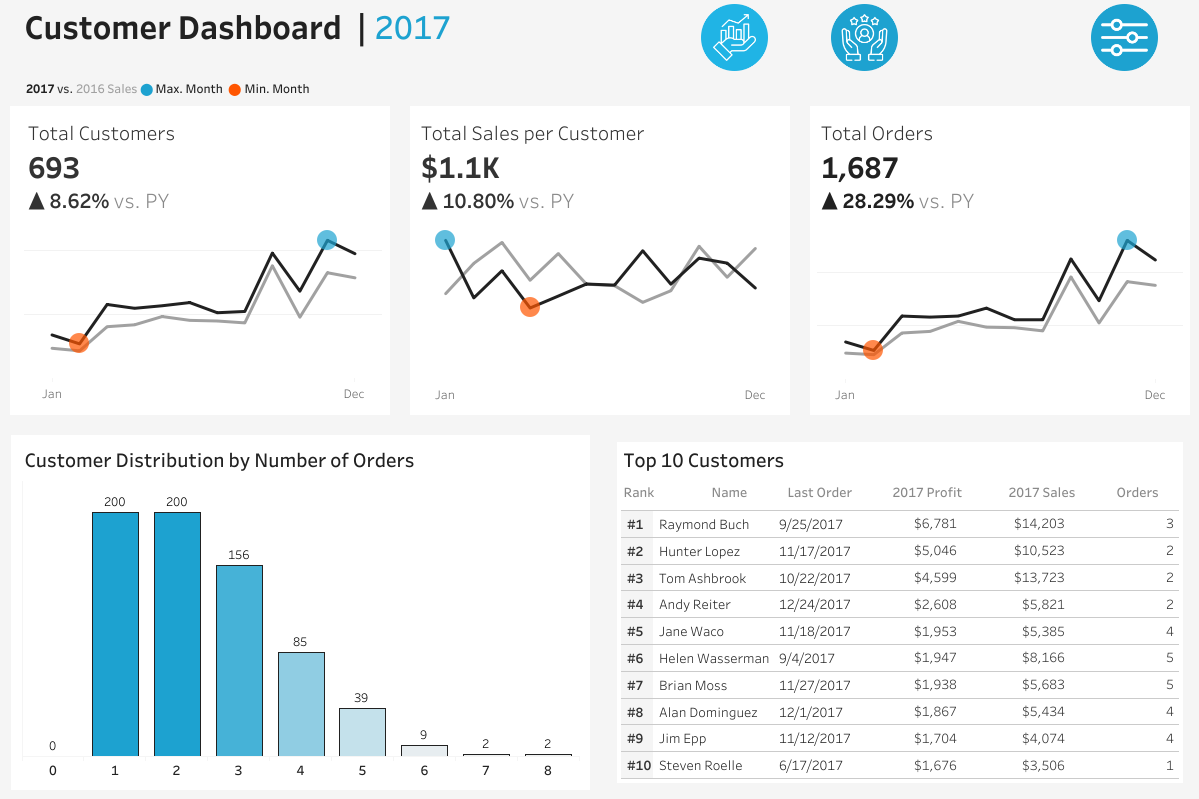

What the dashboard file says about the page in this screenshot:
{"tool":"tableau","page":{"name":"Customer Dashboard","canvas":[1200,800],"ordinal":0},"visuals":[{"type":"text","box":[0,0,1200,52]},{"type":"dashboard-object","box":[670,0,130,75]},{"type":"dashboard-object","box":[800,0,130,75]},{"type":"blank","box":[930,0,130,75]},{"type":"dashboard-object","box":[1060,0,130,75]},{"type":"blank","box":[941,10,240,66]},{"type":"worksheet","title":"Legend of KPI","mark":"Automatic","box":[0,70,1200,36]},{"type":"text","box":[941,76,240,34]},{"type":"worksheet","title":"KPI Customers","mark":"Automatic","rows":["Calculation_667377237292982288"],"cols":["Order Date"],"box":[0,106,400,319]},{"type":"worksheet","title":"KPI Sales per Customer","mark":"Automatic","rows":["Calculation_667377237299130390"],"cols":["Order Date"],"box":[400,106,400,319]},{"type":"worksheet","title":"KPI Orders","mark":"Automatic","rows":["Calculation_667377237303722012"],"cols":["Order Date"],"box":[800,106,400,319]},{"type":"parameter","param":"[Parameters].[Parameter 1]","box":[941,110,240,61]},{"type":"blank","box":[941,171,240,75]},{"type":"text","box":[941,246,240,29]},{"type":"filter","title":"KPI Customers","param":"[federated.08uz19t08srfrs111xc0d11h2edg].[none:Category:nk]","box":[941,275,240,52]},{"type":"filter","title":"KPI Customers","param":"[federated.08uz19t08srfrs111xc0d11h2edg].[none:Sub-Category:nk]","box":[941,327,240,52]},{"type":"blank","box":[941,379,240,78]},{"type":"text","box":[18,442,565,34]},{"type":"text","box":[617,442,566,34]},{"type":"text","box":[941,457,240,29]},{"type":"worksheet","title":"Customer Distribution","mark":"Automatic","rows":["Calculation_667377237286678539"],"cols":["Calculation_667377237305925665"],"box":[18,476,565,307]},{"type":"text","box":[617,476,88,30]},{"type":"text","box":[705,476,76,30]},{"type":"text","box":[781,476,105,30]},{"type":"text","box":[886,476,116,30]},{"type":"text","box":[1002,476,108,30]},{"type":"text","box":[1110,476,73,30]},{"type":"filter","title":"KPI Customers","param":"[federated.08uz19t08srfrs111xc0d11h2edg].[none:Region:nk]","box":[941,486,240,52]},{"type":"worksheet","title":"Top 10 Customers","mark":"Automatic","rows":["Calculation_667377237308669987","Customer Name","Order Date"],"box":[617,506,566,277]},{"type":"filter","title":"KPI Customers","param":"[federated.08uz19t08srfrs111xc0d11h2edg].[none:State:nk]","box":[941,538,240,52]},{"type":"filter","title":"KPI Customers","param":"[federated.08uz19t08srfrs111xc0d11h2edg].[none:City:nk]","box":[941,590,240,52]}]}

Visuals, with their boxes in screenshot pixels (x1, y1, x2, y2), scaled from the page's 1200x800 canvas onto the 1199x799 screenshot:
text: x1=0 y1=0 x2=1198 y2=52
dashboard-object: x1=669 y1=0 x2=799 y2=75
dashboard-object: x1=799 y1=0 x2=929 y2=75
blank: x1=929 y1=0 x2=1059 y2=75
dashboard-object: x1=1059 y1=0 x2=1189 y2=75
blank: x1=940 y1=10 x2=1180 y2=76
"Legend of KPI" worksheet: x1=0 y1=70 x2=1198 y2=106
text: x1=940 y1=76 x2=1180 y2=110
"KPI Customers" worksheet: x1=0 y1=106 x2=400 y2=424
"KPI Sales per Customer" worksheet: x1=400 y1=106 x2=799 y2=424
"KPI Orders" worksheet: x1=799 y1=106 x2=1198 y2=424
parameter: x1=940 y1=110 x2=1180 y2=171
blank: x1=940 y1=171 x2=1180 y2=246
text: x1=940 y1=246 x2=1180 y2=275
"KPI Customers" filter: x1=940 y1=275 x2=1180 y2=327
"KPI Customers" filter: x1=940 y1=327 x2=1180 y2=379
blank: x1=940 y1=379 x2=1180 y2=456
text: x1=18 y1=441 x2=583 y2=475
text: x1=616 y1=441 x2=1182 y2=475
text: x1=940 y1=456 x2=1180 y2=485
"Customer Distribution" worksheet: x1=18 y1=475 x2=583 y2=782
text: x1=616 y1=475 x2=704 y2=505
text: x1=704 y1=475 x2=780 y2=505
text: x1=780 y1=475 x2=885 y2=505
text: x1=885 y1=475 x2=1001 y2=505
text: x1=1001 y1=475 x2=1109 y2=505
text: x1=1109 y1=475 x2=1182 y2=505
"KPI Customers" filter: x1=940 y1=485 x2=1180 y2=537
"Top 10 Customers" worksheet: x1=616 y1=505 x2=1182 y2=782
"KPI Customers" filter: x1=940 y1=537 x2=1180 y2=589
"KPI Customers" filter: x1=940 y1=589 x2=1180 y2=641
